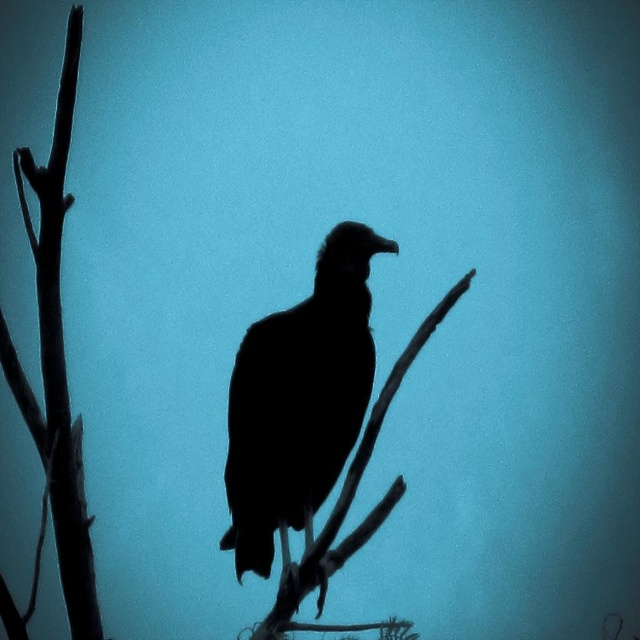Raven: (219, 221, 400, 621)
